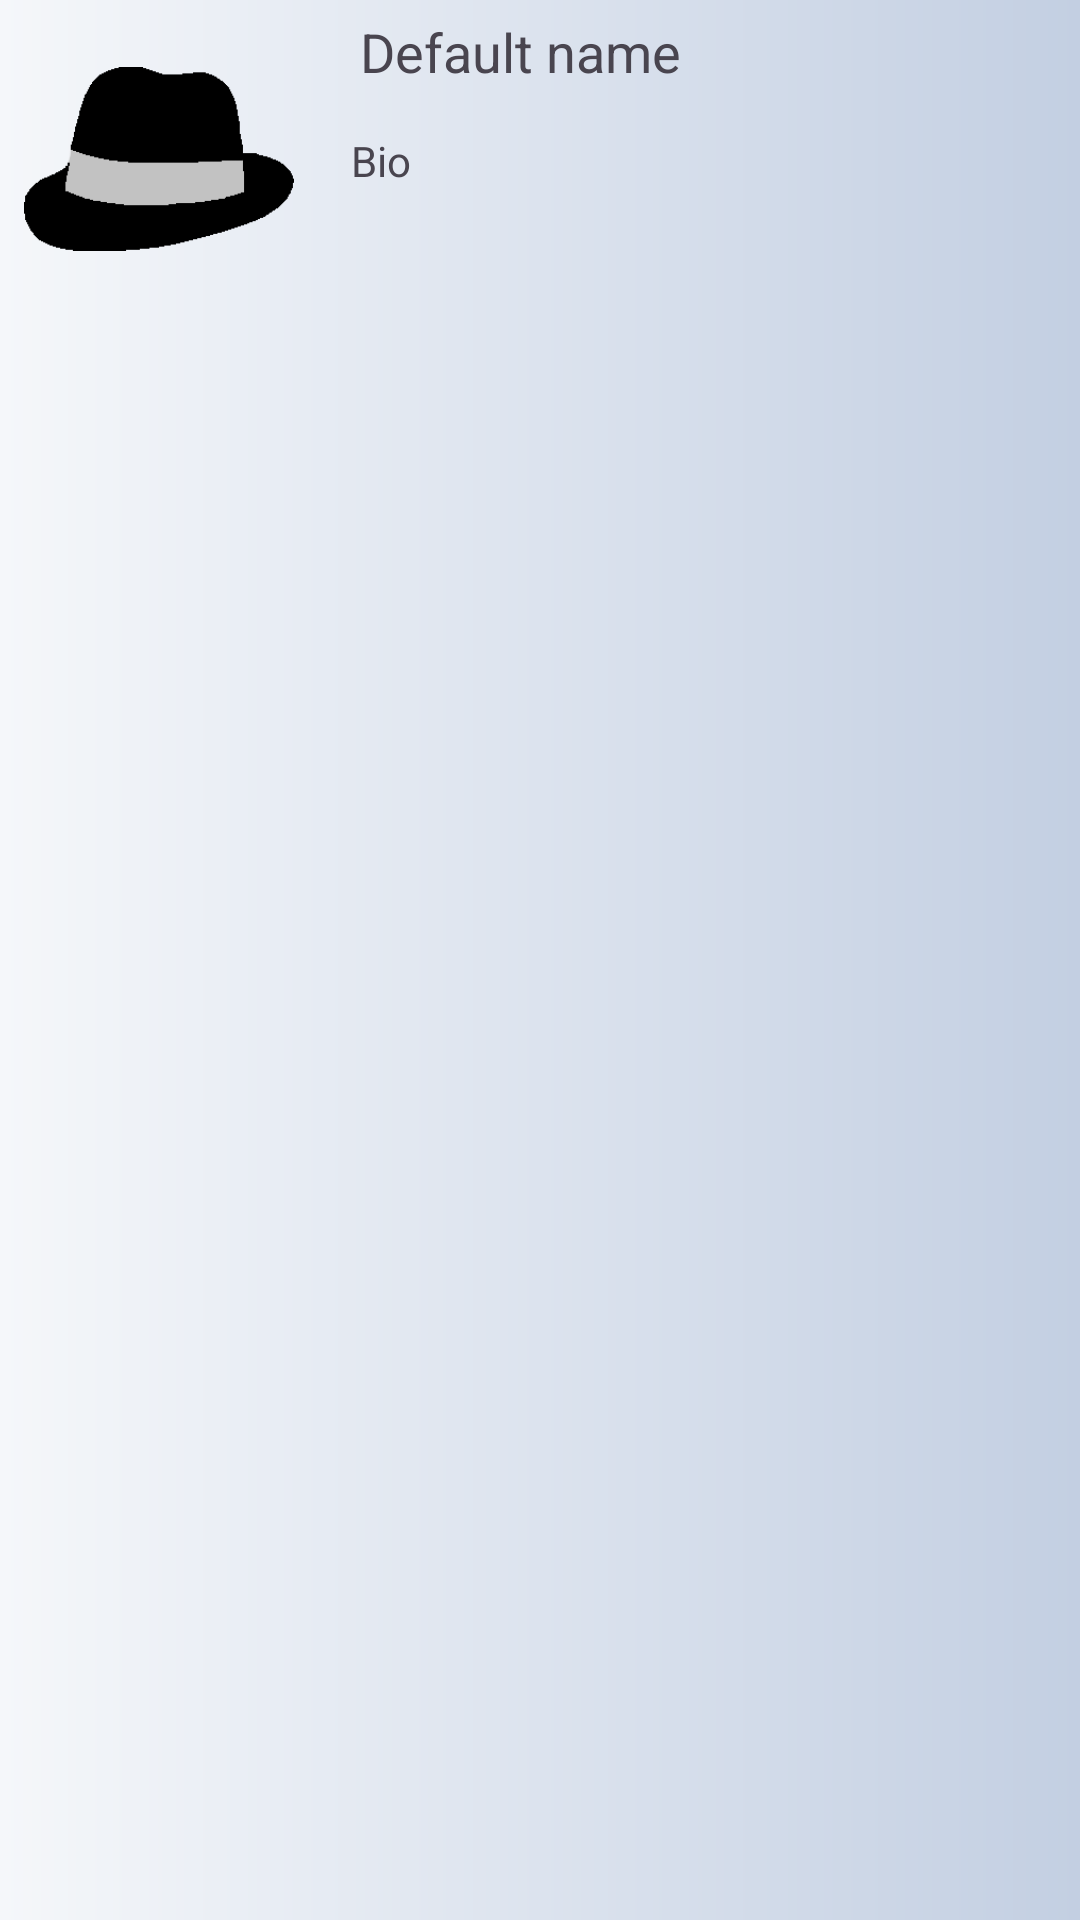

Screen size 1080w x 1920h. Icon name, then its box in pixels as bbox=(x1, y1, x2, y2):
haticon: bbox=(24, 67, 294, 251)
